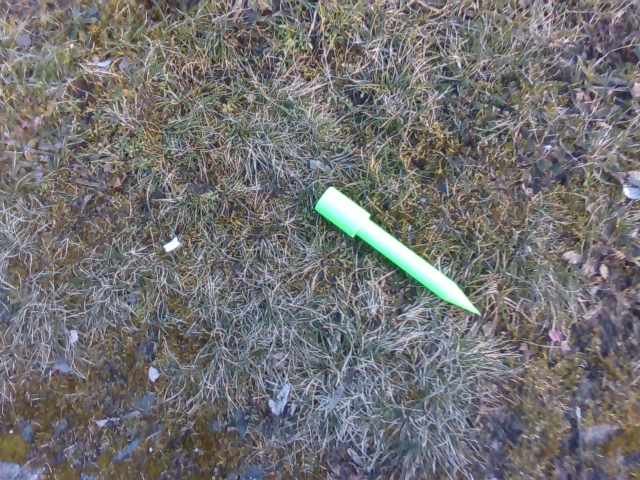Probe: (308, 183, 491, 318)
